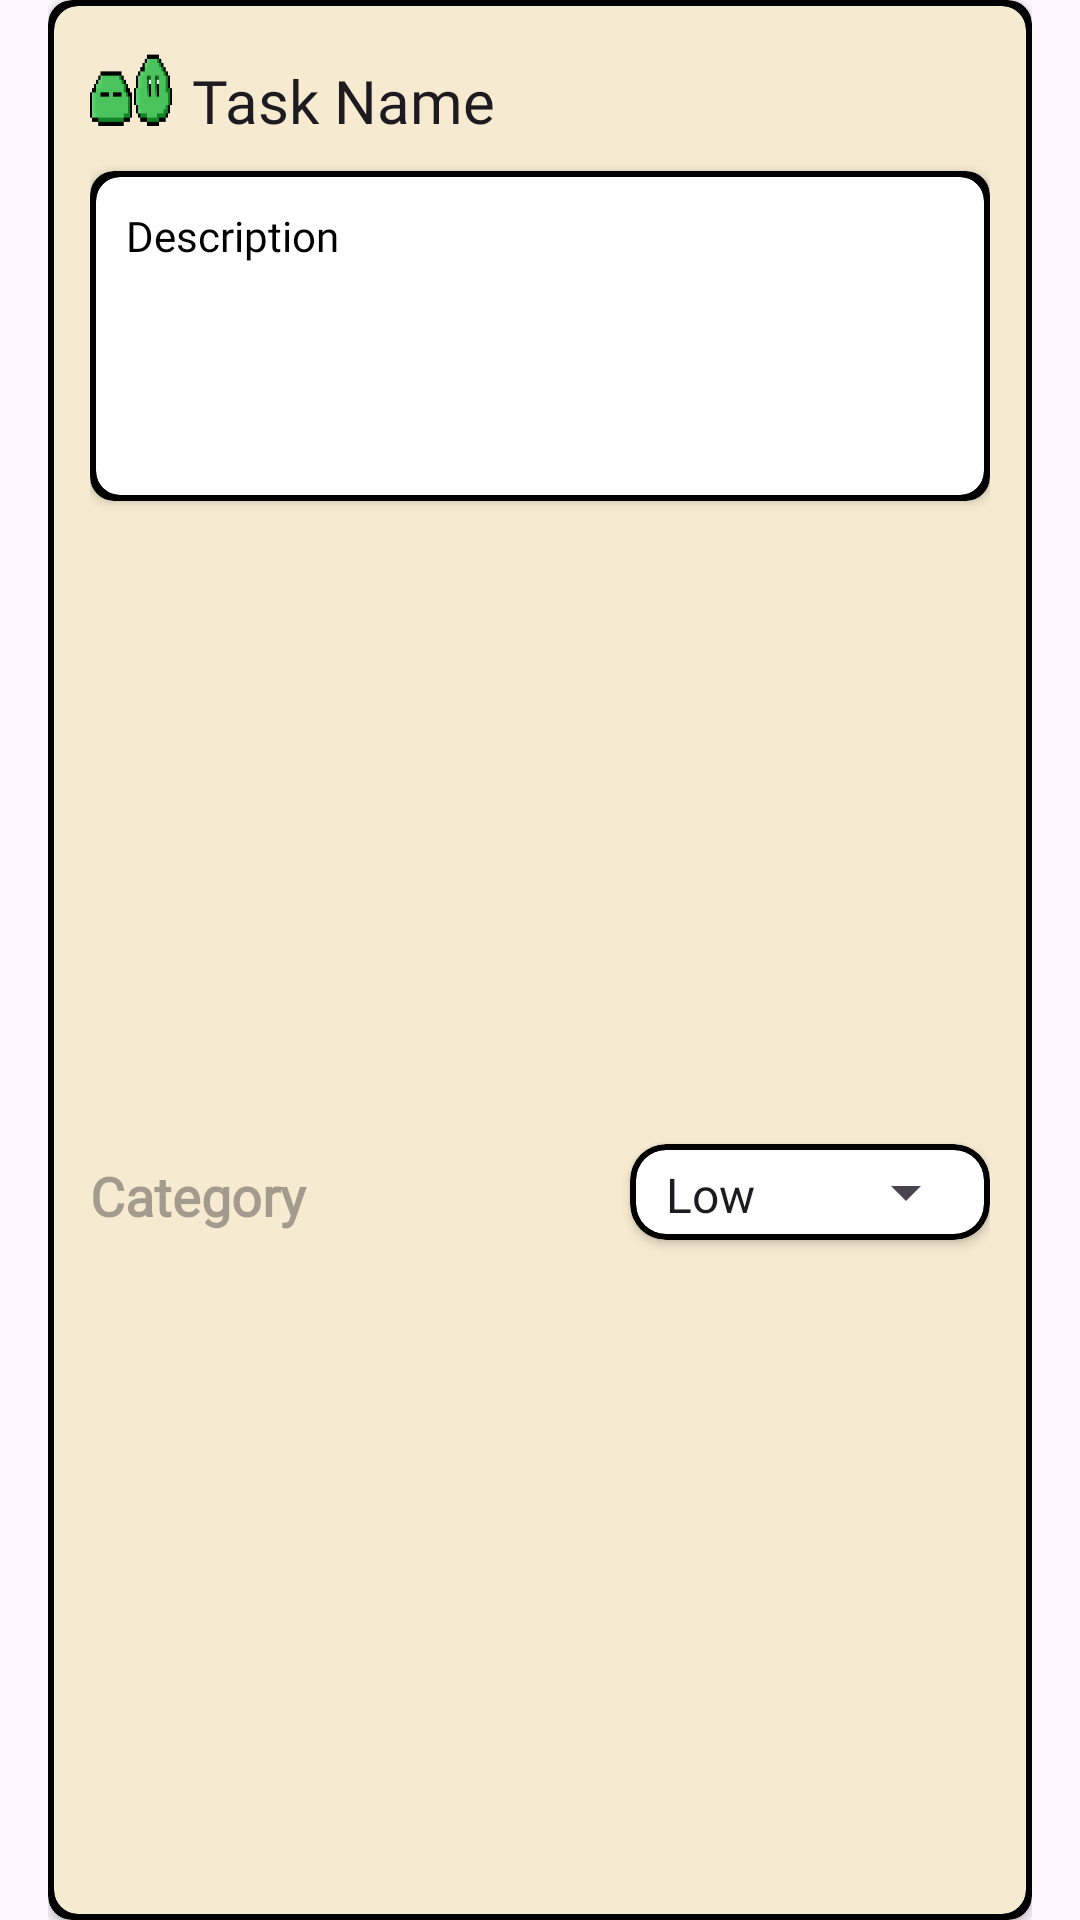

Screen size 1080w x 1920h. Icon name, then its box in pixels as (x1, y1, x2, y2):
enemy slime: (90, 54, 172, 126)
